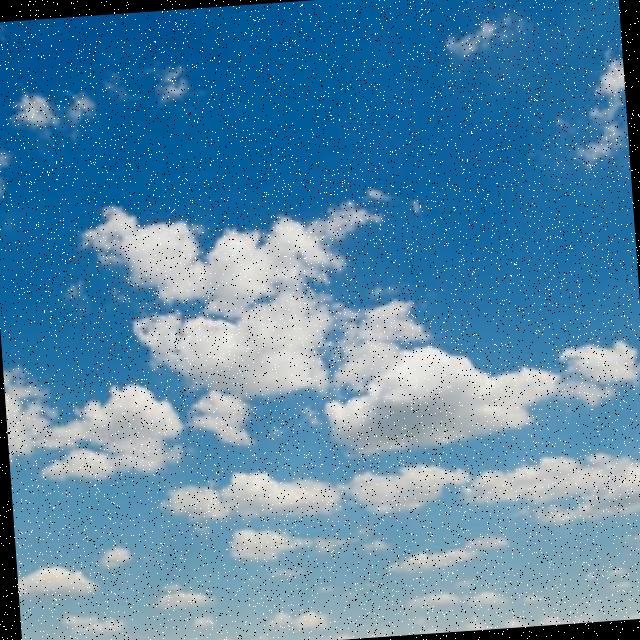Ci: (1, 81, 640, 524)
